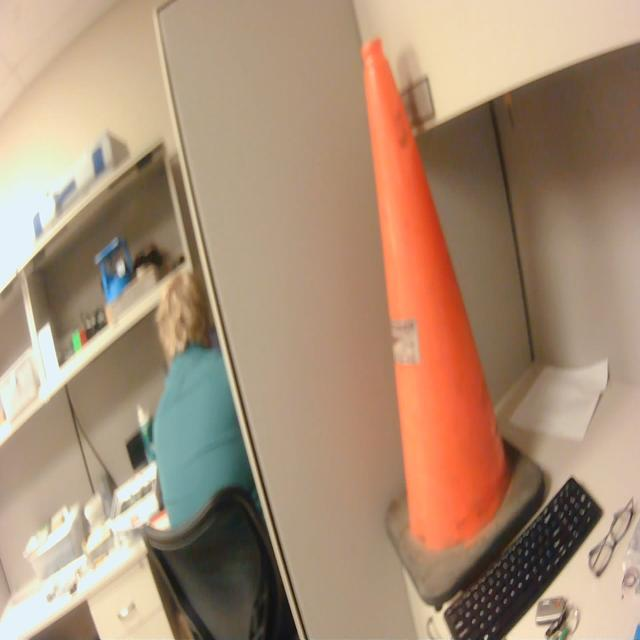traffic cone: (357, 33, 551, 613)
